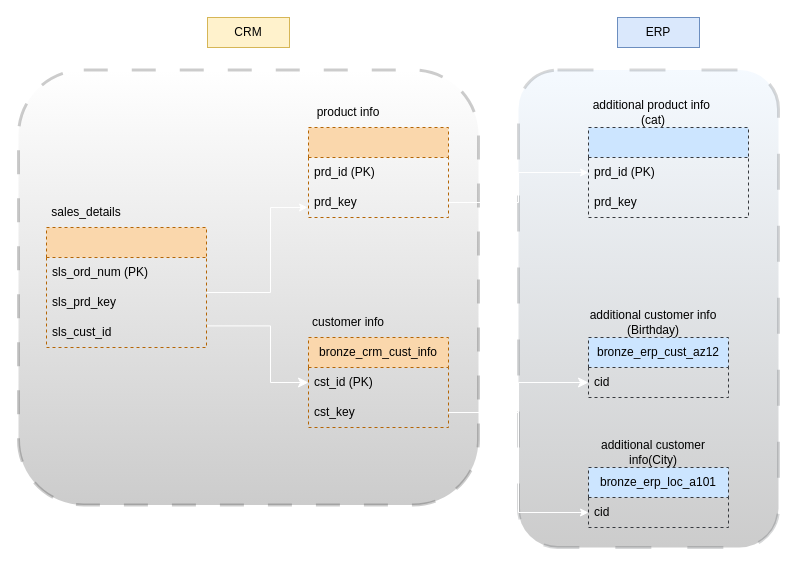
This 797x566 diagram has some shape labels left out. Each missing label, with the box of its shape:
bronze_crm_prd_info: (308, 126, 448, 218)
bronze_crm_sales_details: (46, 226, 206, 348)
bronze_erp_px_cat_g1v2: (588, 126, 748, 218)
